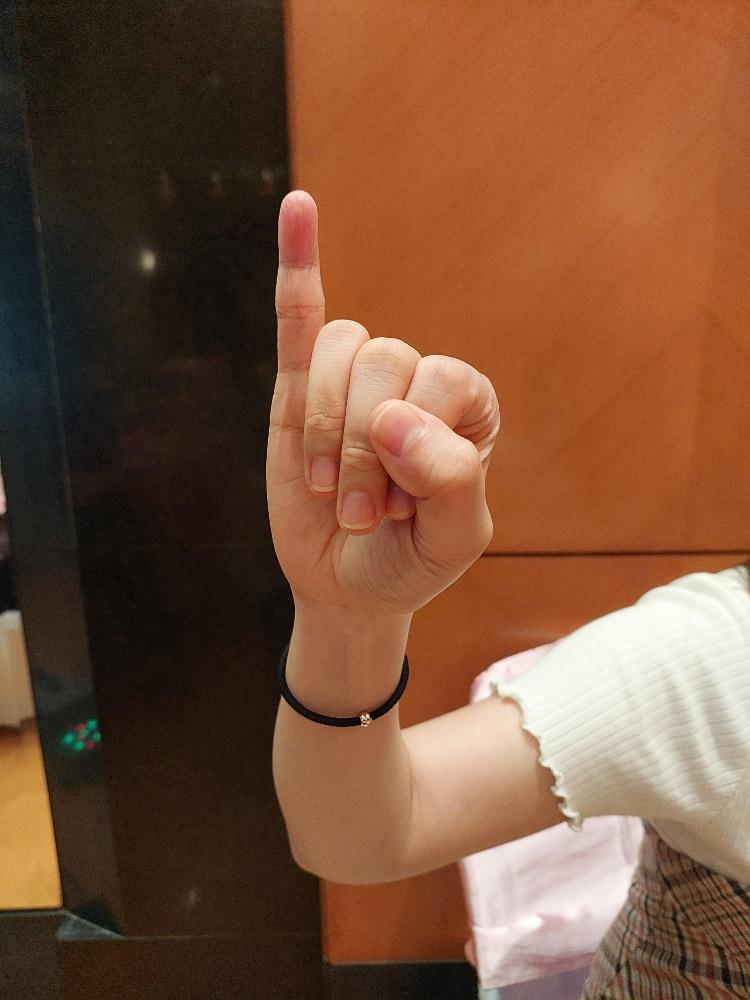i: (263, 187, 503, 621)
